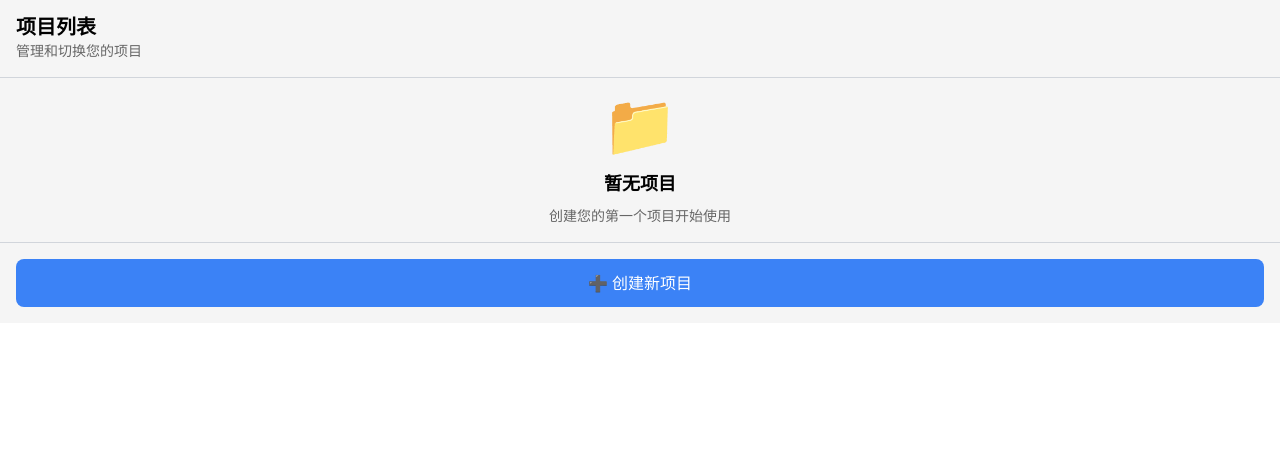
Test: ProjectPanel › 创建项目 › 应该取消创建项目
Click the button "➕ 创建新项目" at [640, 283], box [16,259,1264,307]
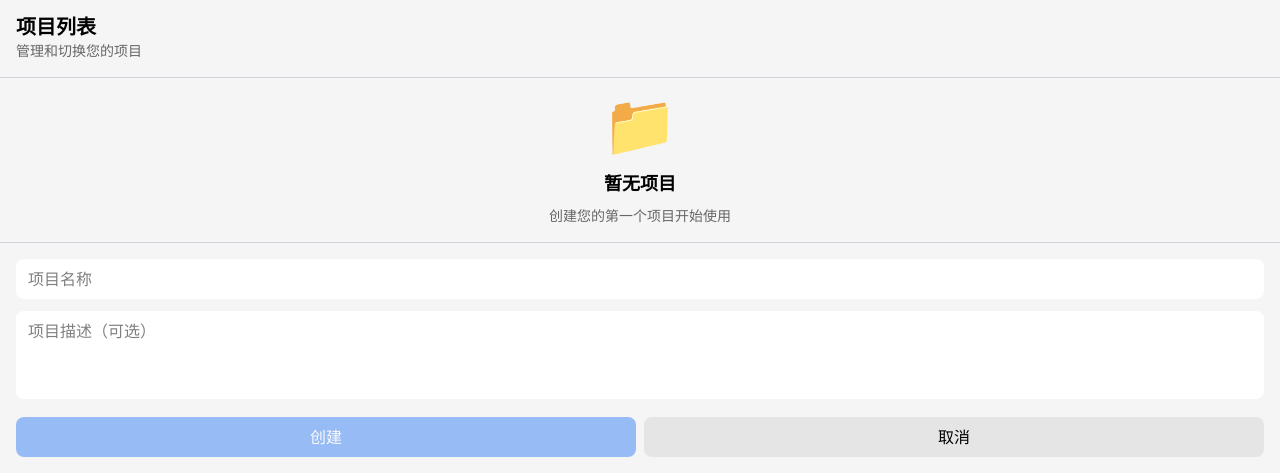
Click the button "取消" at [954, 437], box [644,417,1264,457]
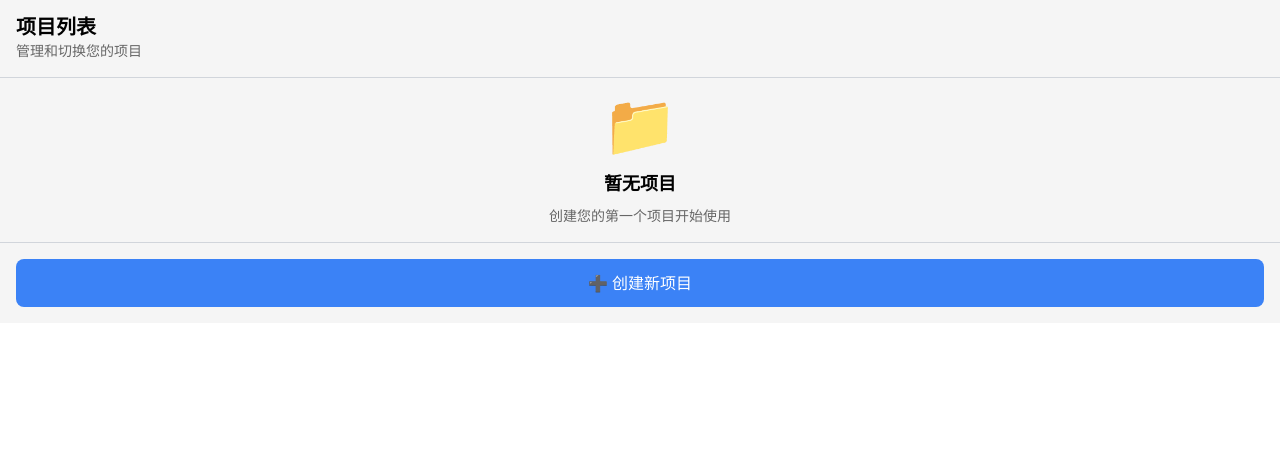
Check: the field with placeholder "项目名称" is gone
